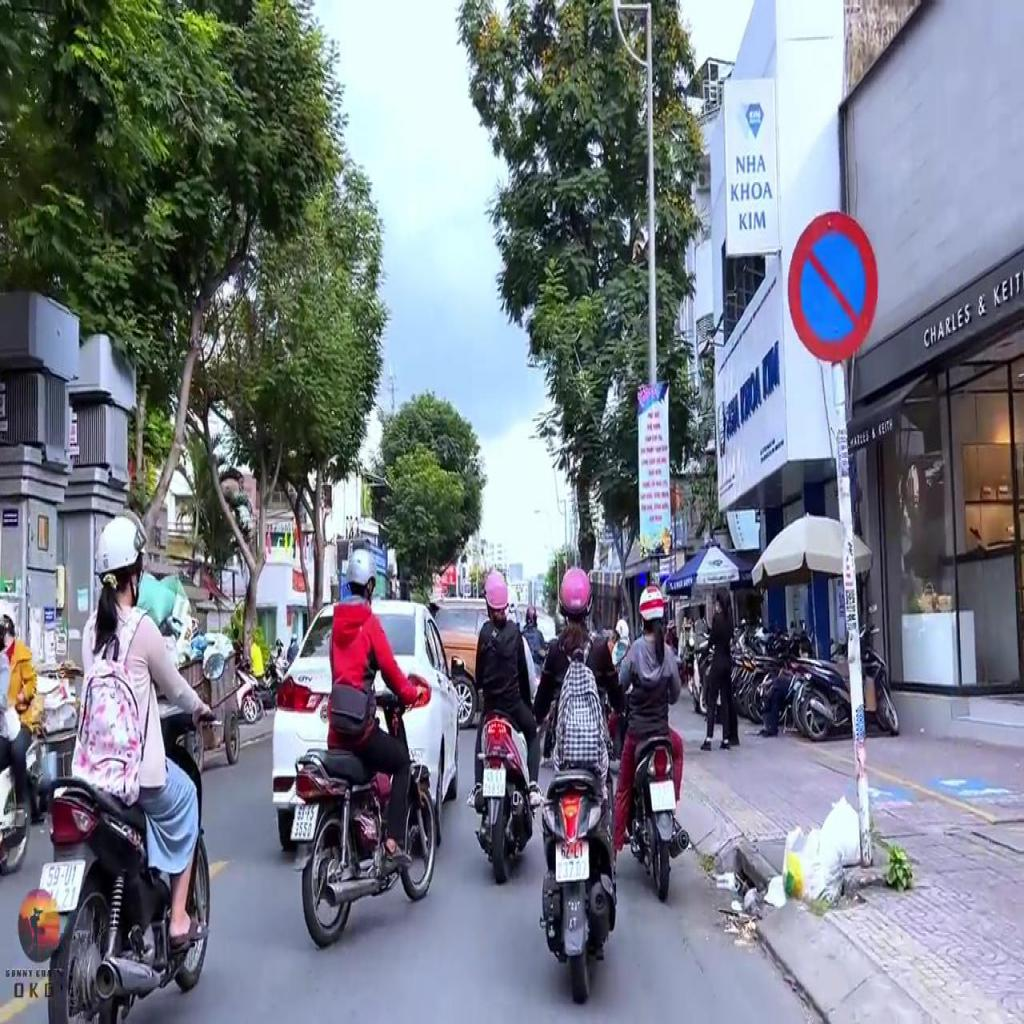cam_do_xe: (791, 210, 876, 362)
